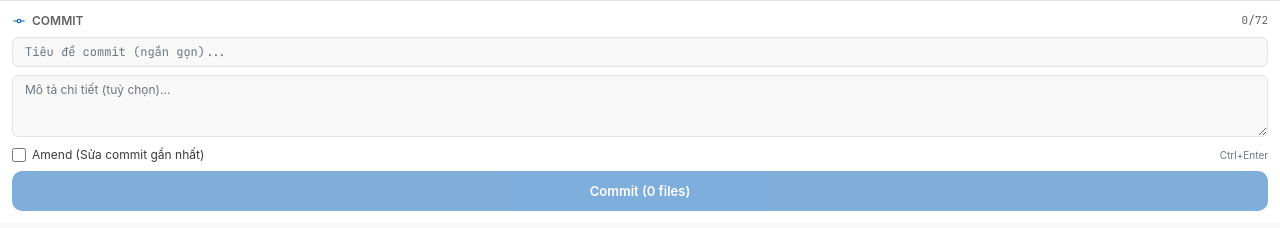
Test: CommitBox › supports amend toggle and pre-fills lastCommitMessage
The image size is (1280, 228).
Step 1. Click the checkbox with test id "amend-checkbox" → (19, 155), box [12,148,26,162]
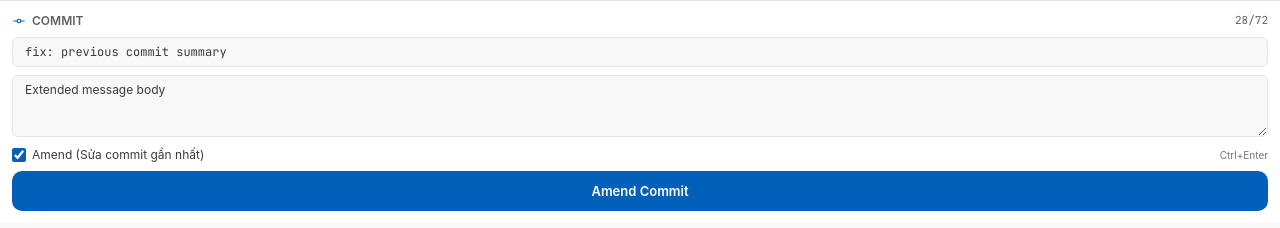
Check: the field with test id "commit-summary-input" holds "fix: previous commit summary", box [12,37,1268,67]
Check: the text box with test id "commit-description-input" holds "Extended message body", box [12,75,1268,137]
Check: the text "Amend Commit" is shown, box [592,182,689,200]
